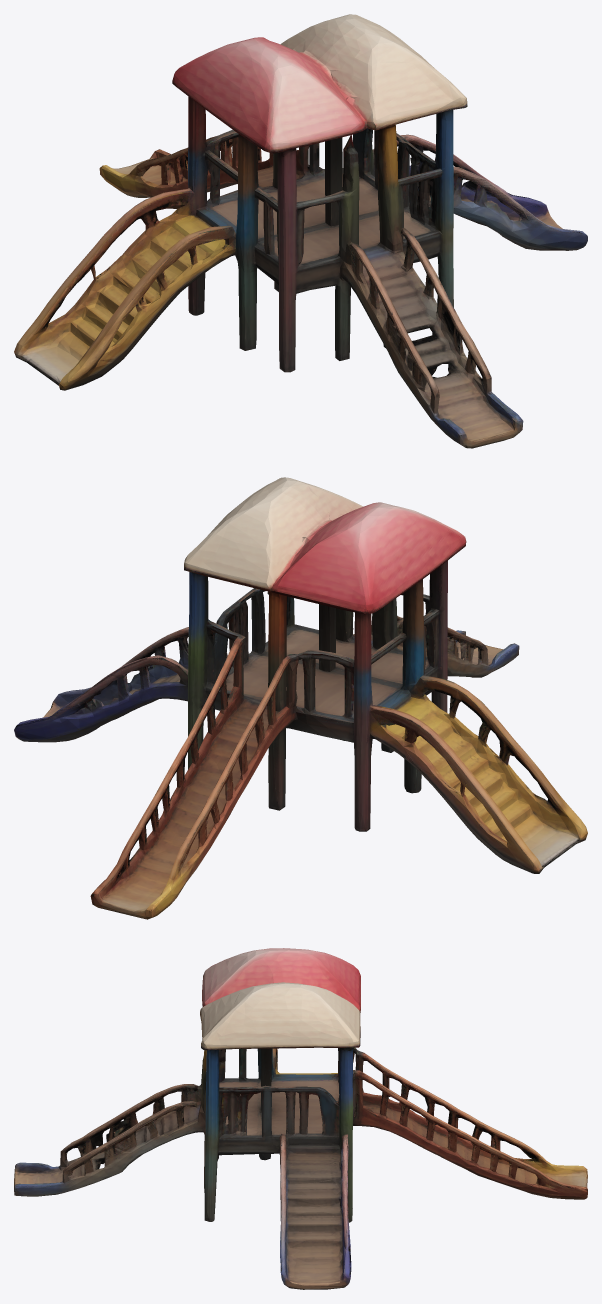
File: cautruot2.glb
The picture shows the model from 3 angles, top to bottom: view 1: azimuth 30°, elevation 25°; view 2: azimuth 150°, elevation 25°; view 3: azimuth 270°, elevation 25°; orthographic projection. The views are drawn at different scales.
Visible parts, largest first — view 1: world; view 2: world; view 3: world.
Boxes of the visible parts, <box> form: world: <box>14,14,587,448</box>; world: <box>14,477,587,919</box>; world: <box>14,948,587,1289</box>.
Bounding box in the file's own units: 0.8354 × 0.4296 × 1.
1 material, 1 textured.
